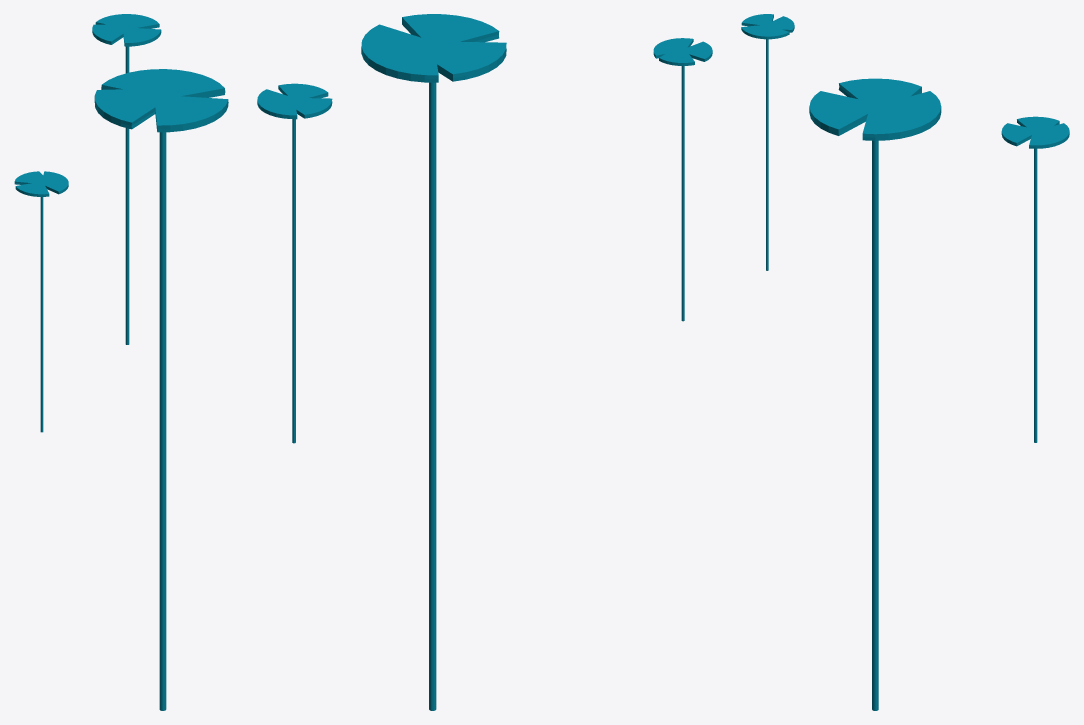
File: lilygroup5.fbx
3 views of the same model, side by side, from view 1: azimuth 30°, elevation 25°; view 2: azimuth 150°, elevation 25°; view 3: azimuth 270°, elevation 25° (orthographic). The views are drawn at different scales.
Parts seen in each view (by area): view 1: LilyPad1 (8), LilyPad1 (9), LilyPad1 (10); view 2: LilyPad1 (8), LilyPad1 (9), LilyPad1 (10); view 3: LilyPad1 (8), LilyPad1 (9), LilyPad1 (10).
Boxes of the visible parts, bbox=[...] form: LilyPad1 (8): bbox=[94, 69, 228, 710]; LilyPad1 (9): bbox=[92, 14, 161, 344]; LilyPad1 (10): bbox=[14, 171, 68, 432]; LilyPad1 (8): bbox=[361, 14, 506, 710]; LilyPad1 (9): bbox=[257, 83, 332, 443]; LilyPad1 (10): bbox=[653, 38, 712, 321]; LilyPad1 (8): bbox=[809, 78, 941, 710]; LilyPad1 (9): bbox=[1001, 116, 1069, 442]; LilyPad1 (10): bbox=[741, 14, 794, 270].
Size of the model in its own units: 2.77 by 5.9 by 2.91.
